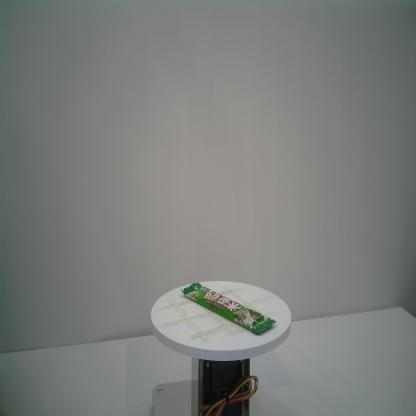Chocolate: (180, 281, 278, 337)
